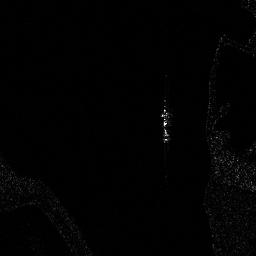ship: (159, 98, 173, 143)
